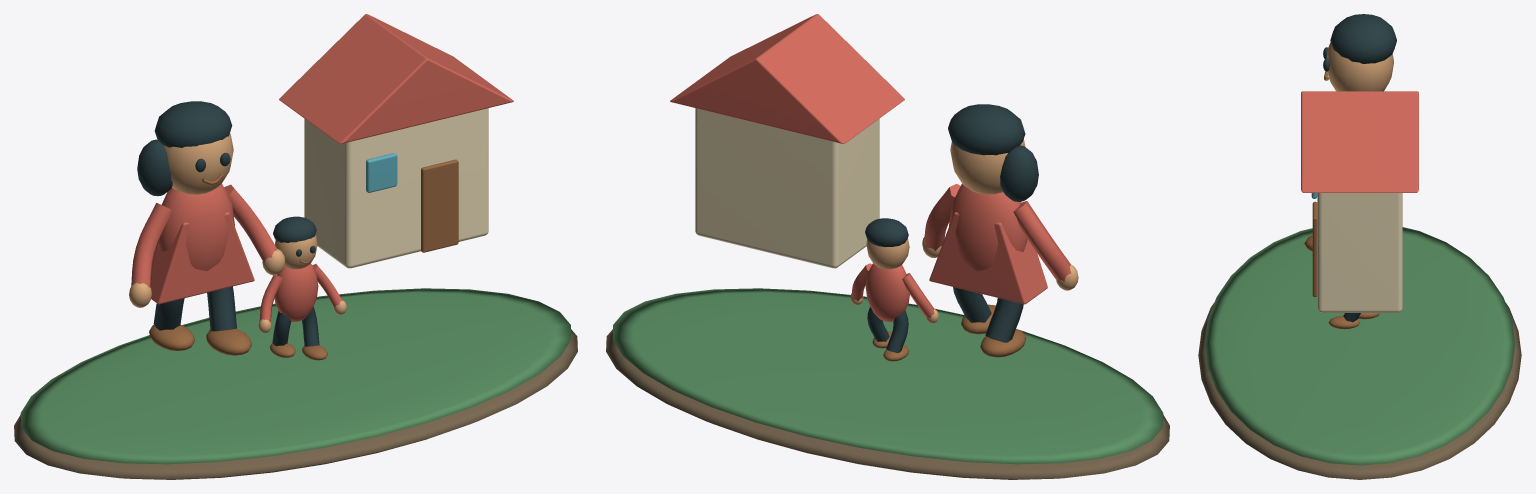
The model's file is complete-second-mother-parent.glb.
The picture shows the model from 3 angles, left to right: view 1: azimuth 30°, elevation 25°; view 2: azimuth 150°, elevation 25°; view 3: azimuth 270°, elevation 25°; orthographic projection. The views are drawn at different scales.
Visible parts, largest first — view 1: complete-second-mother-parent_surface_01, complete-second-mother-parent_surface_05, complete-second-mother-parent_surface_06, complete-second-mother-parent_surface_00, complete-second-mother-parent_surface_03, complete-second-mother-parent_surface_04, complete-second-mother-parent_surface_02, complete-second-mother-parent_surface_07; view 2: complete-second-mother-parent_surface_01, complete-second-mother-parent_surface_05, complete-second-mother-parent_surface_06, complete-second-mother-parent_surface_00, complete-second-mother-parent_surface_03, complete-second-mother-parent_surface_02, complete-second-mother-parent_surface_04; view 3: complete-second-mother-parent_surface_01, complete-second-mother-parent_surface_05, complete-second-mother-parent_surface_06, complete-second-mother-parent_surface_00, complete-second-mother-parent_surface_03, complete-second-mother-parent_surface_02, complete-second-mother-parent_surface_04.
Part boxes in pixels (<box>): complete-second-mother-parent_surface_01: <box>20,288,571,464</box>; complete-second-mother-parent_surface_05: <box>131,14,513,321</box>; complete-second-mother-parent_surface_06: <box>304,108,488,268</box>; complete-second-mother-parent_surface_00: <box>14,329,577,479</box>; complete-second-mother-parent_surface_03: <box>137,101,319,346</box>; complete-second-mother-parent_surface_04: <box>149,159,458,360</box>; complete-second-mother-parent_surface_02: <box>129,133,346,333</box>; complete-second-mother-parent_surface_07: <box>366,153,397,192</box>; complete-second-mother-parent_surface_01: <box>612,288,1163,464</box>; complete-second-mother-parent_surface_05: <box>670,14,1071,321</box>; complete-second-mother-parent_surface_06: <box>695,108,879,268</box>; complete-second-mother-parent_surface_00: <box>606,329,1169,479</box>; complete-second-mother-parent_surface_03: <box>865,104,1038,352</box>; complete-second-mother-parent_surface_02: <box>850,139,1078,323</box>; complete-second-mother-parent_surface_04: <box>872,304,1026,361</box>; complete-second-mother-parent_surface_01: <box>1204,227,1515,465</box>; complete-second-mother-parent_surface_05: <box>1301,91,1418,192</box>; complete-second-mother-parent_surface_06: <box>1317,193,1402,312</box>; complete-second-mother-parent_surface_00: <box>1198,302,1521,479</box>; complete-second-mother-parent_surface_03: <box>1323,14,1396,322</box>; complete-second-mother-parent_surface_02: <box>1326,42,1393,91</box>; complete-second-mother-parent_surface_04: <box>1304,71,1379,329</box>.
Size of the model in its own units: 4.56 by 2.78 by 2.5.
